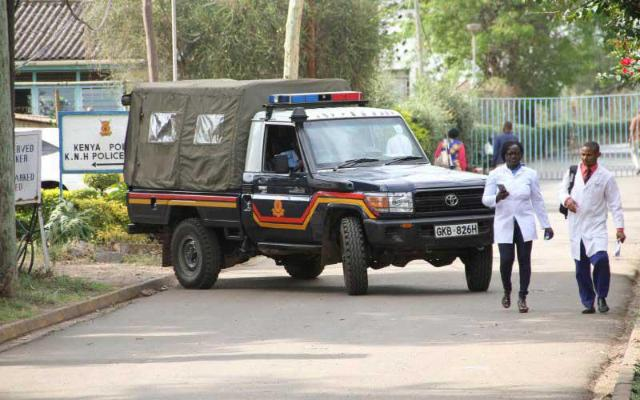police_car: (123, 71, 486, 305)
